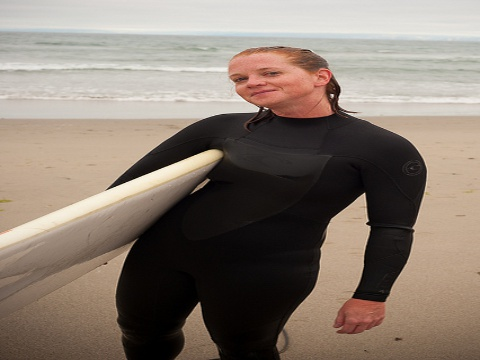hand: (331, 297, 386, 336)
